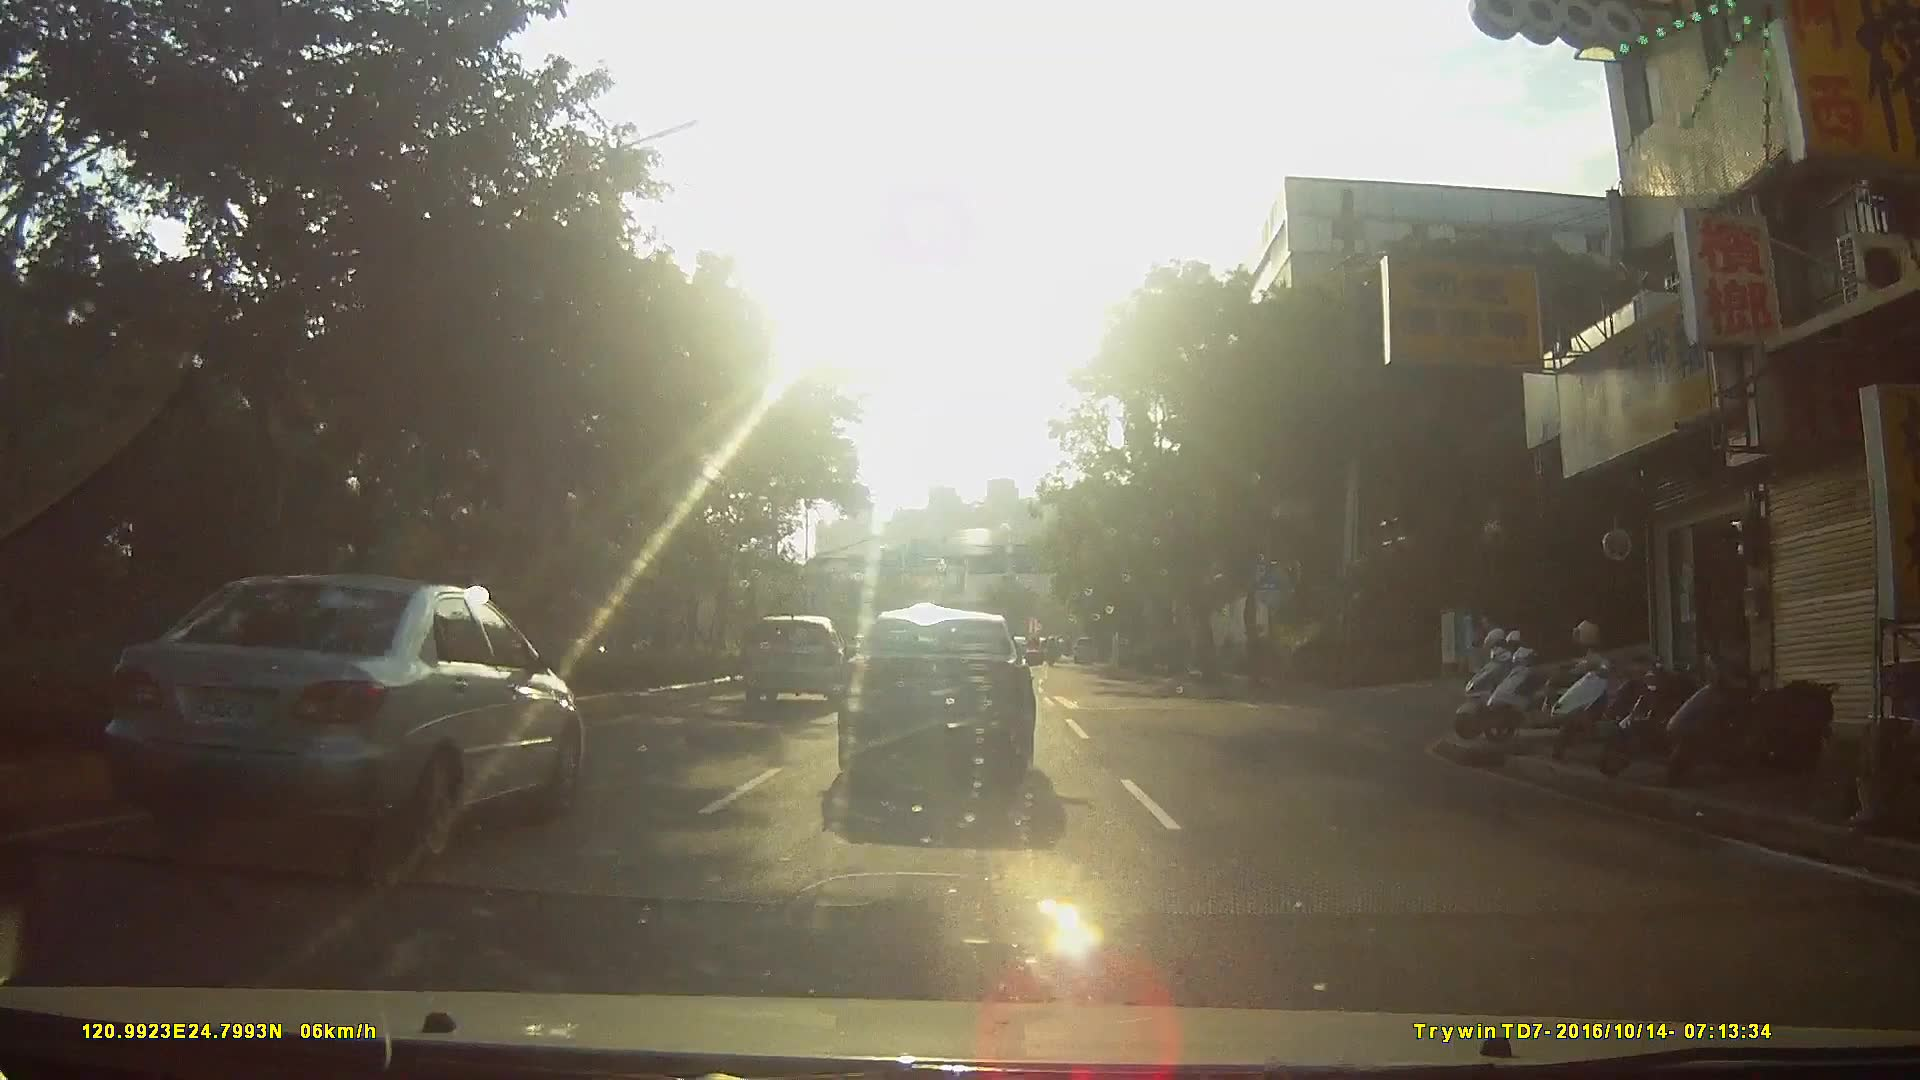vehicle: (49, 576, 588, 880), (843, 611, 1058, 798), (742, 615, 853, 705), (1072, 633, 1105, 665)
